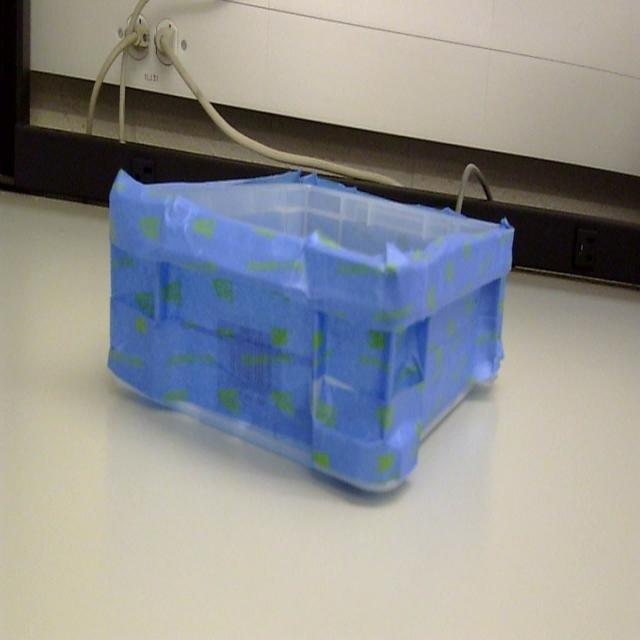bucket: (106, 173, 514, 498)
